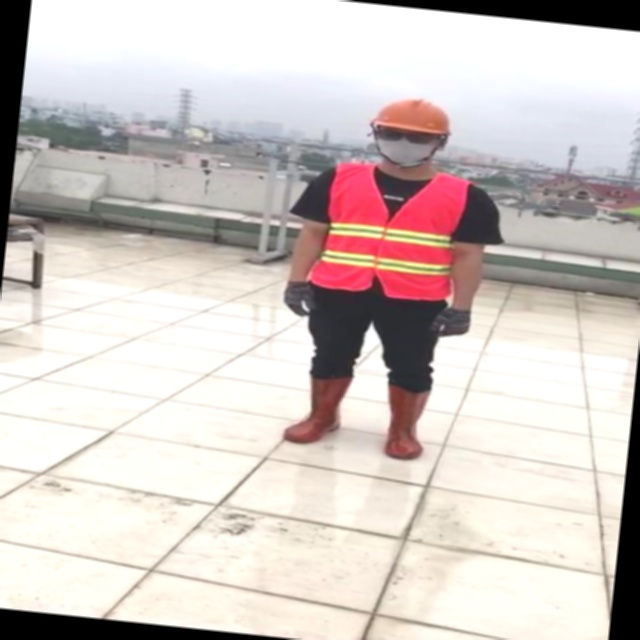boots: (282, 374, 350, 446), (199, 378, 245, 450)
gloves: (168, 291, 214, 327), (328, 282, 359, 318)
helmet: (205, 88, 290, 125)
vest: (185, 158, 336, 291)
